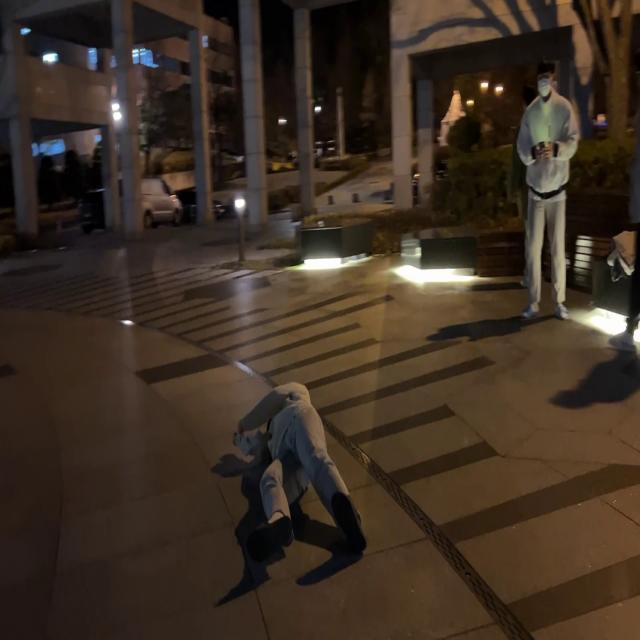Fall: (234, 383, 367, 562)
Stand: (518, 65, 581, 320)
